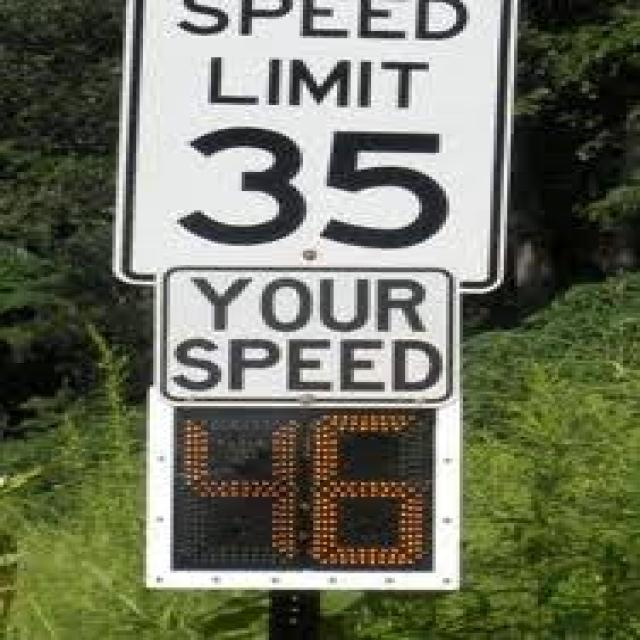speedLimit35: (133, 0, 504, 277)
